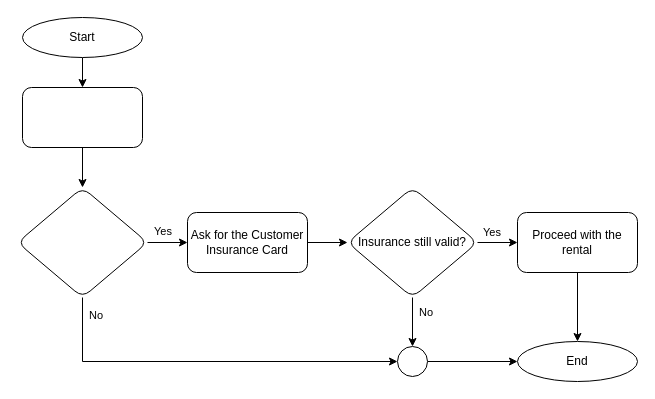
This 655x399 diagram has some shape labels left out. Here are the shapes that lost their labels. From the top down, the centre of each, then its label:
At (x=82, y=117): "Ask for the Customer ID".
At (x=82, y=242): "Customer ID Age greater than 25 years?".
